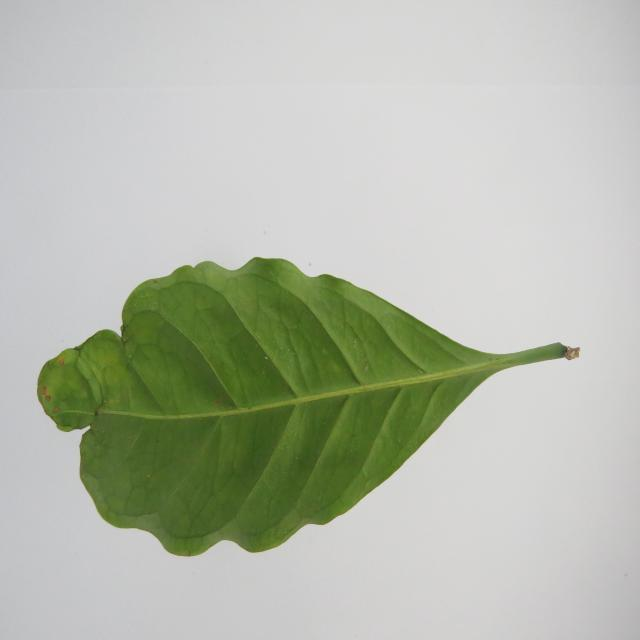DeficienciaNutricional-Calcio: (38, 258, 578, 555)
